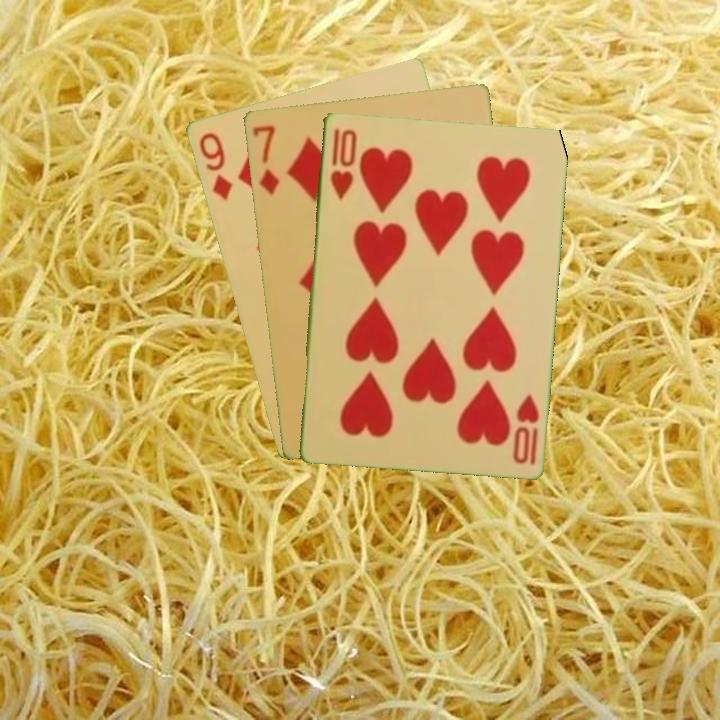10h: (508, 390, 542, 468), (326, 124, 359, 202)
7d: (249, 121, 282, 197)
9d: (195, 128, 235, 204)
